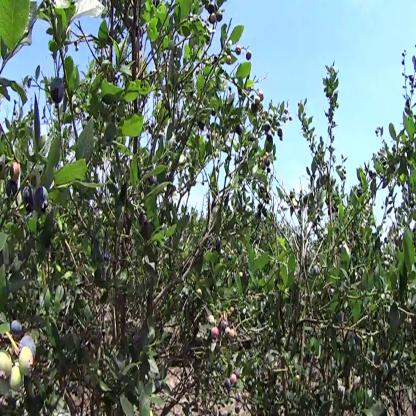intermediate: (208, 323, 223, 345), (9, 163, 22, 186), (227, 368, 240, 389)
mature: (49, 77, 68, 105), (35, 180, 48, 216), (20, 185, 34, 209), (12, 316, 25, 341), (7, 179, 18, 203), (24, 338, 34, 345)
young: (10, 368, 24, 397), (20, 347, 33, 376), (1, 348, 11, 383), (1, 381, 9, 392)
